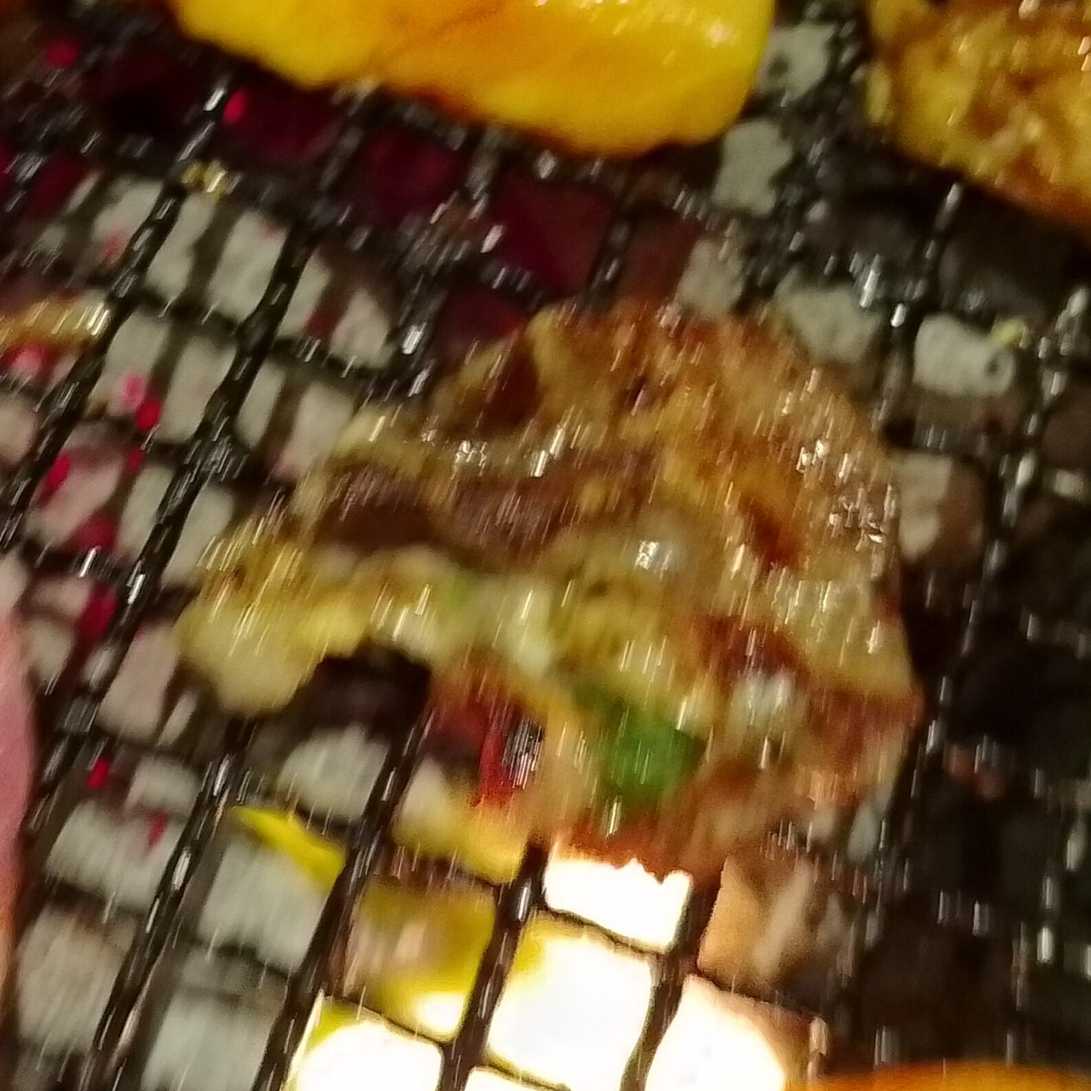Overcooked: (218, 293, 923, 1022)
